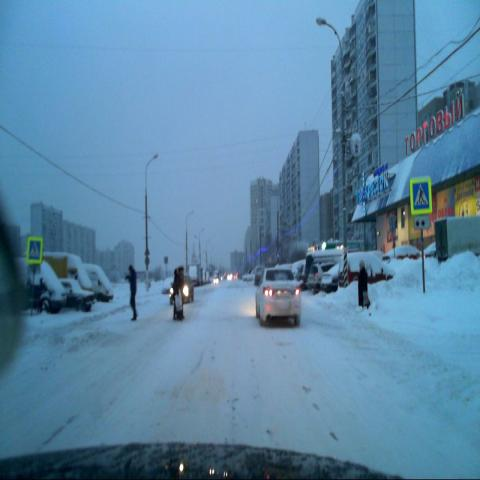8_15: (413, 216, 430, 230)
